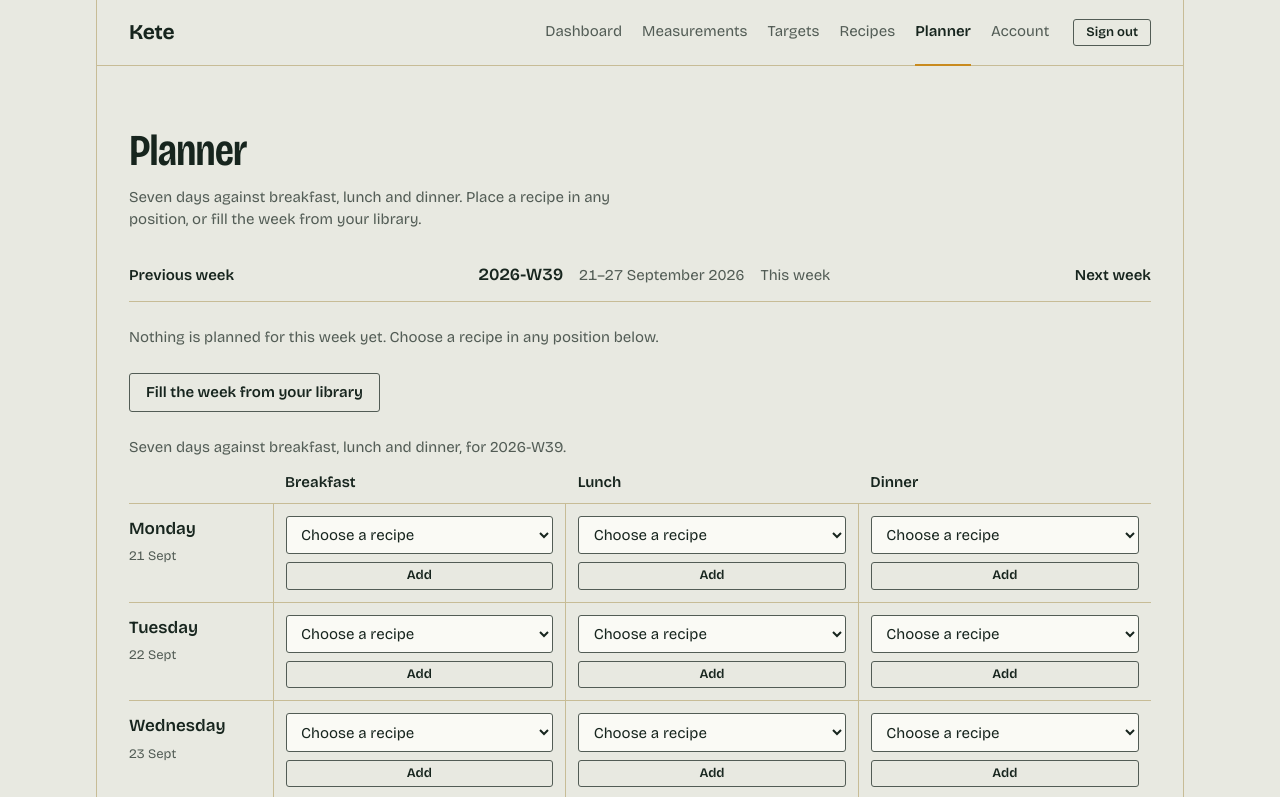
filling a whole week from the library › fills every position, naming the week the screen is showing
Click the button "Fill the week from your library" at (254,392), box [129,373,380,412]
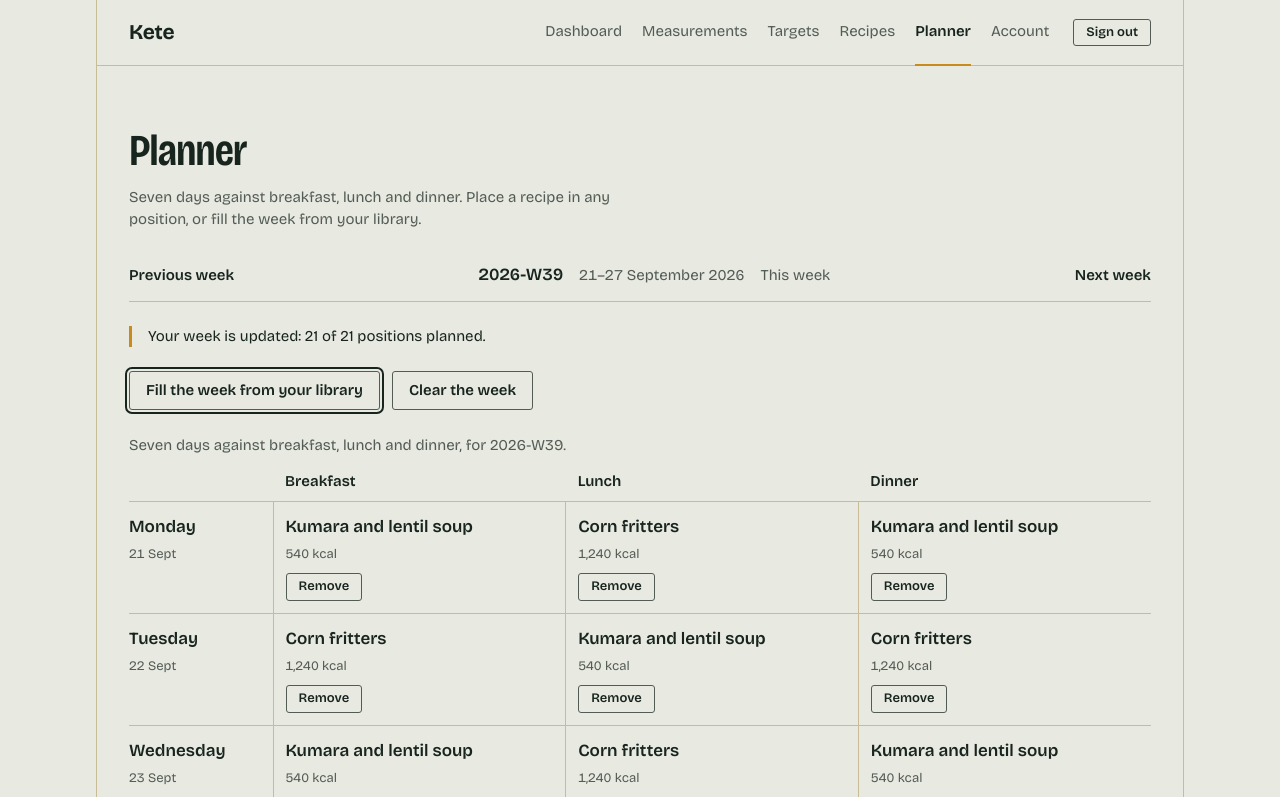
Result: no dropdowns are shown
